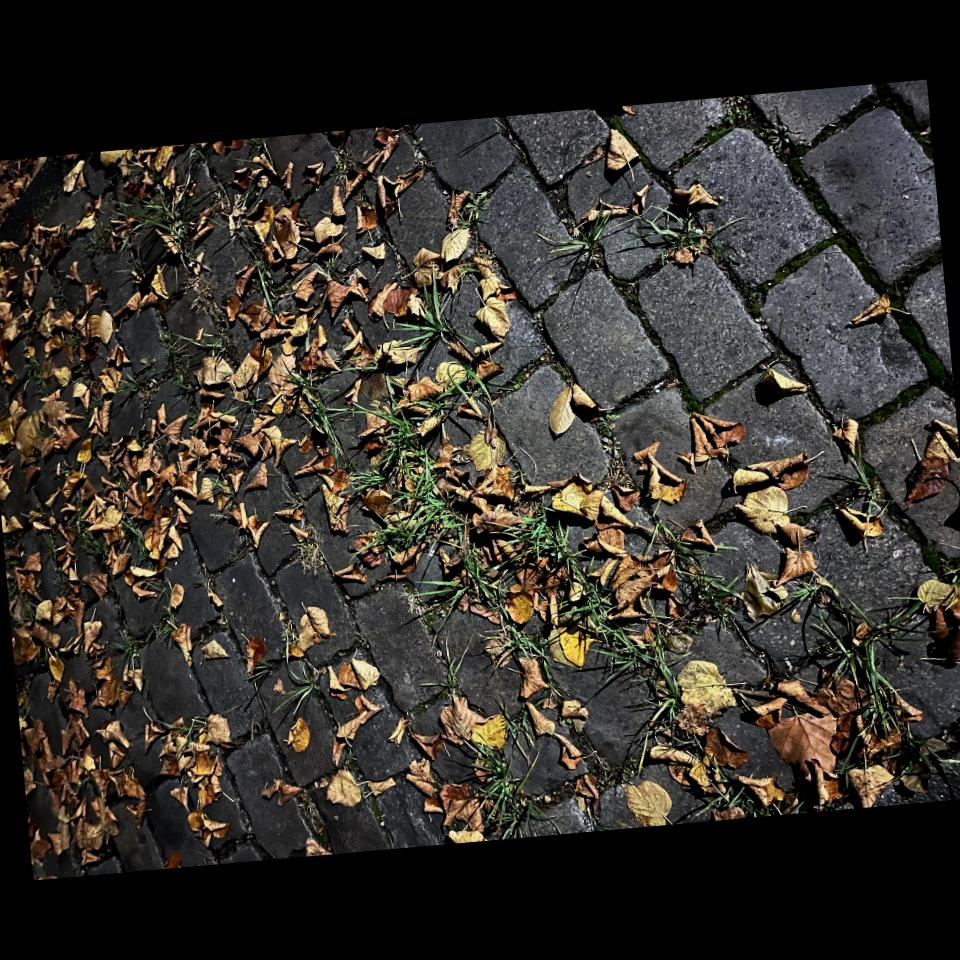weed: (499, 510, 679, 703), (351, 380, 470, 577), (795, 587, 924, 740), (125, 199, 194, 243), (413, 284, 454, 348), (655, 214, 715, 248), (555, 226, 606, 261)
